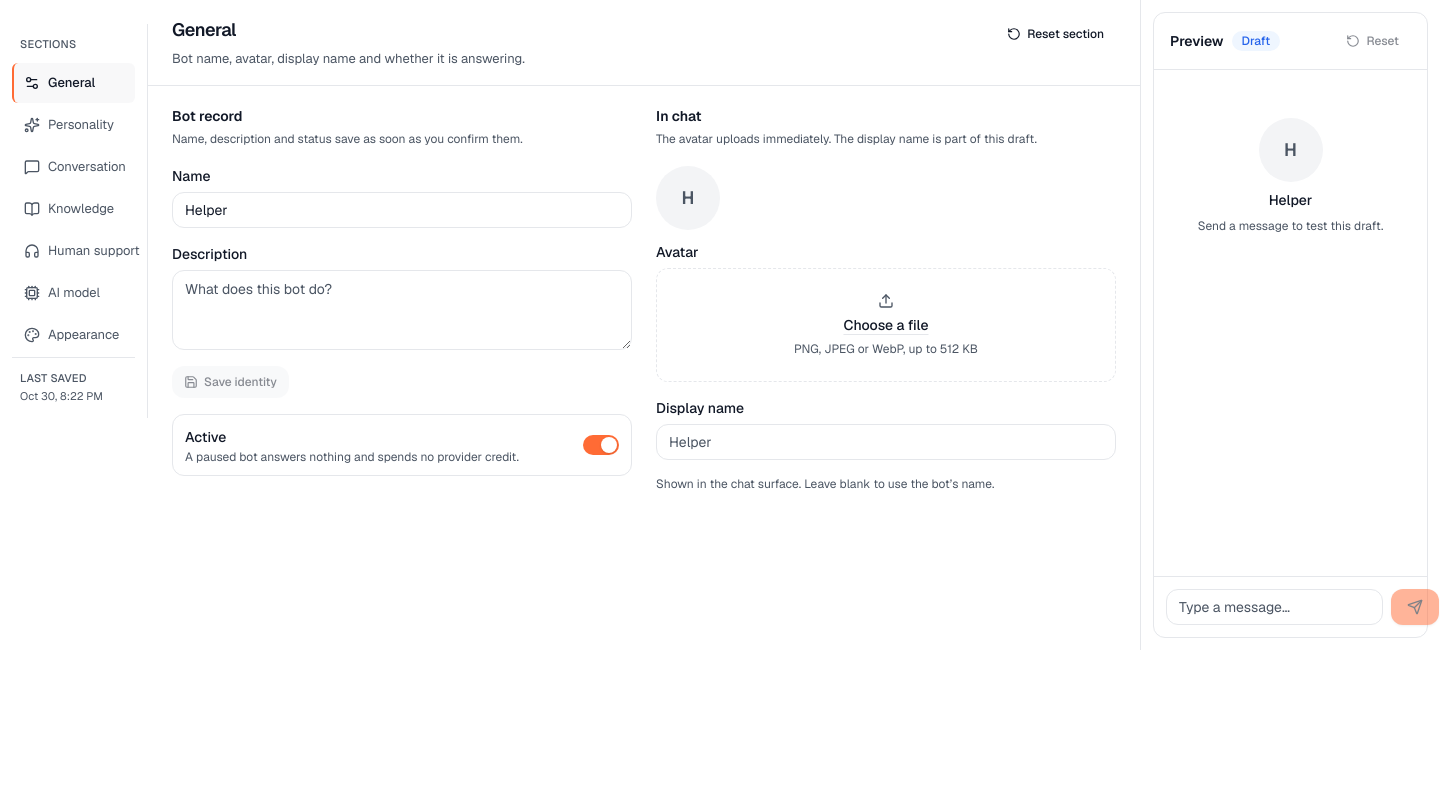
BotConfigTabs — draft lifecycle › shows the save bar when a field changes
Type "Ada" into the field labelled "Display name" at coordinates (886, 442), box [656,424,1116,460]
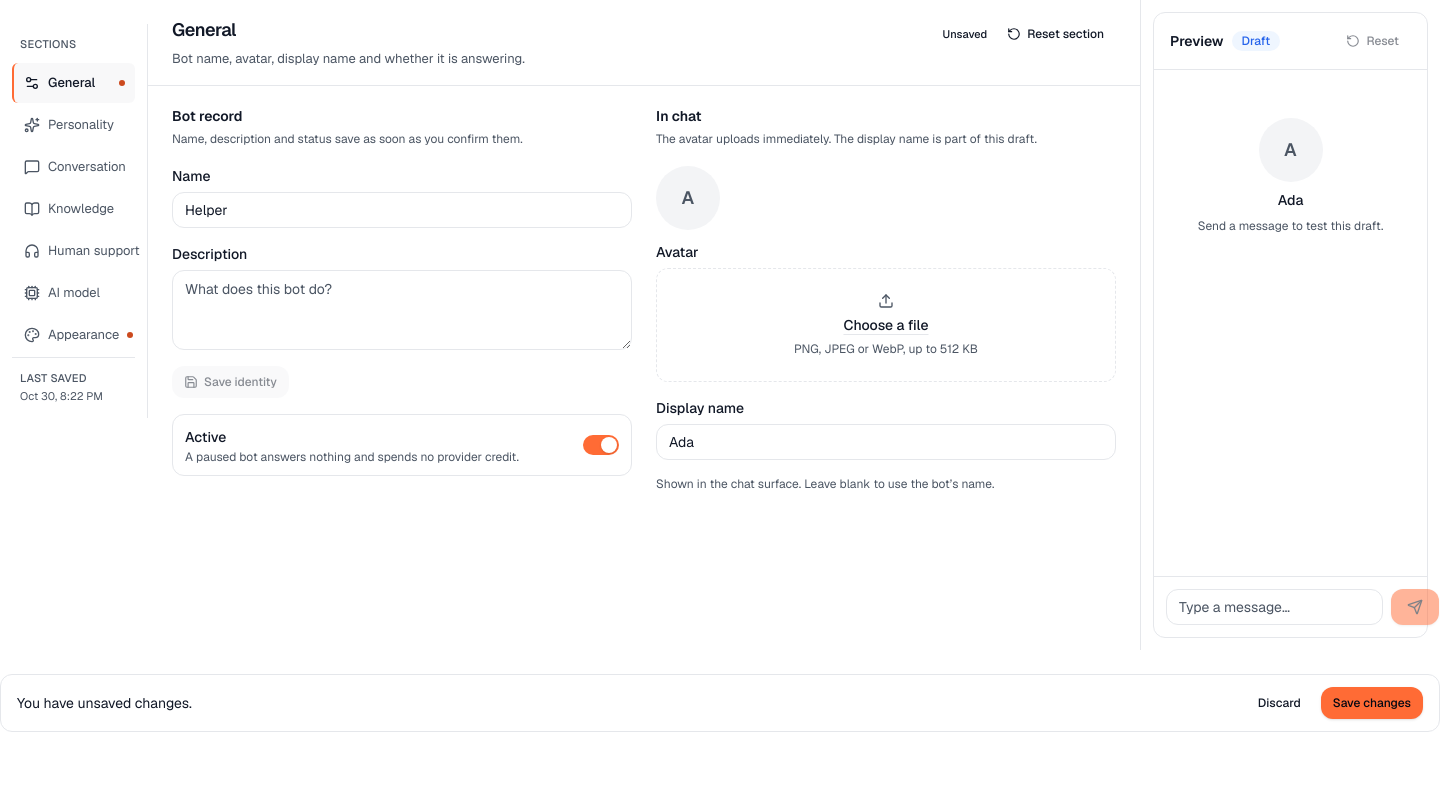
Result: the text "You have unsaved changes." is shown at [17,693,192,713]
